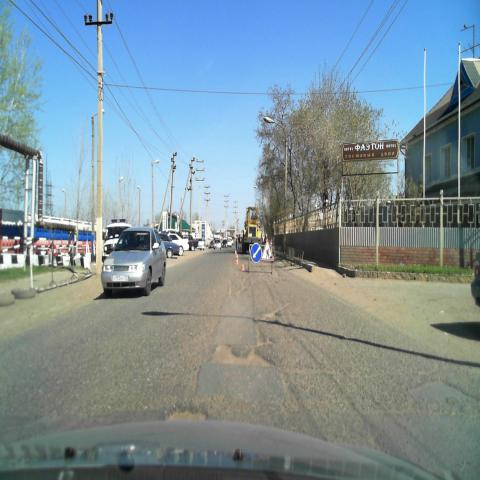4_2_2: (250, 241, 262, 264)
